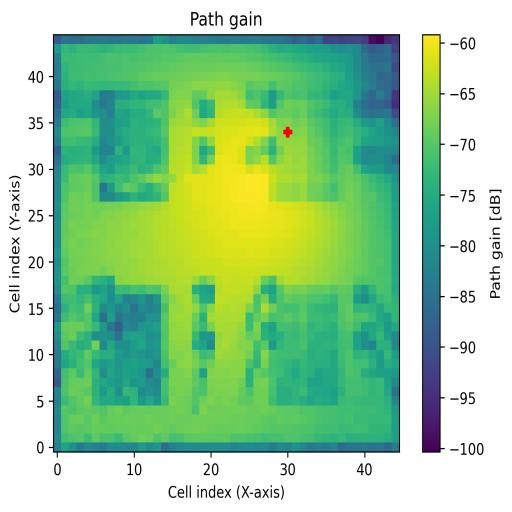Concrete: (269, 91, 345, 202)
Glass: (92, 91, 168, 202)
Metal: (268, 285, 339, 405)
Wood: (92, 285, 168, 405)
